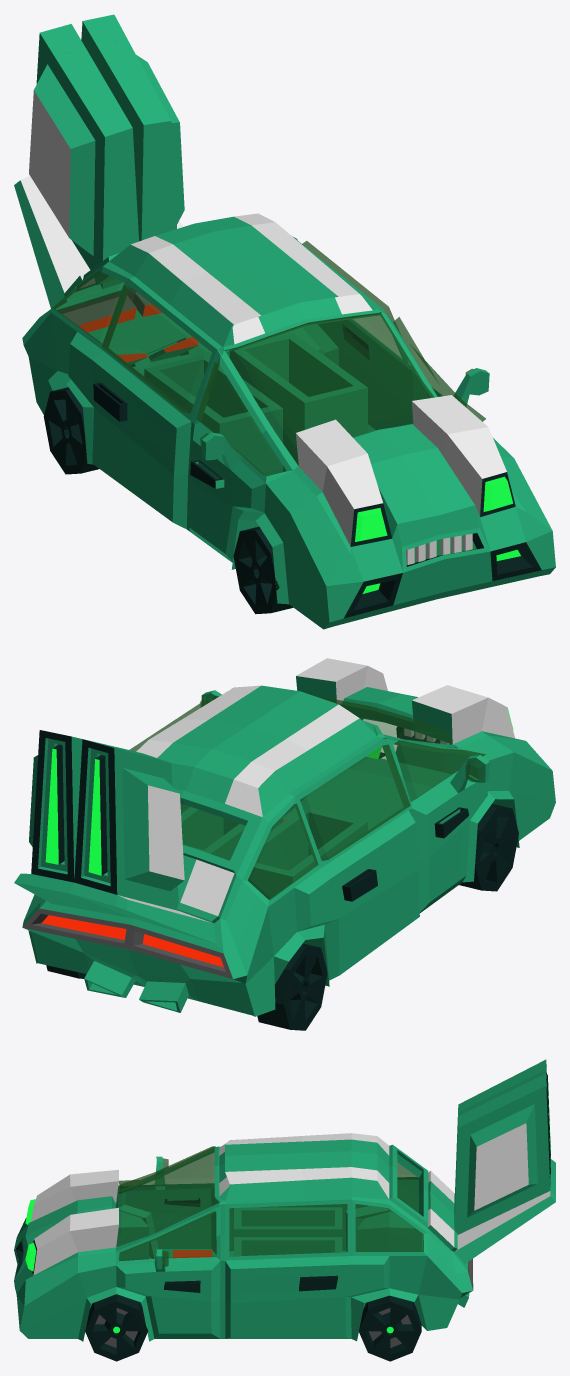
File: emmerald_car.gltf
3 views of the same model, one above another, from view 1: azimuth 30°, elevation 25°; view 2: azimuth 150°, elevation 25°; view 3: azimuth 270°, elevation 25° (orthographic). The views are drawn at different scales.
Parts seen in each view (by area): view 1: CarBody, Cube.003, Cube.004; view 2: CarBody, Cube.004, Cube.003; view 3: CarBody, Cube.001, Cube.002.
Part boxes in pixels (x1,y1,x2,y2): CarBody: (14,14,555,629); Cube.003: (233,526,293,614); Cube.004: (43,387,98,474); CarBody: (14,658,555,1016); Cube.004: (257,943,327,1030); Cube.003: (459,803,518,891); CarBody: (14,1059,555,1341); Cube.001: (358,1295,421,1361); Cube.002: (85,1294,148,1361).
Bounding box in the file's own units: 1.43 × 1.65 × 3.29.
